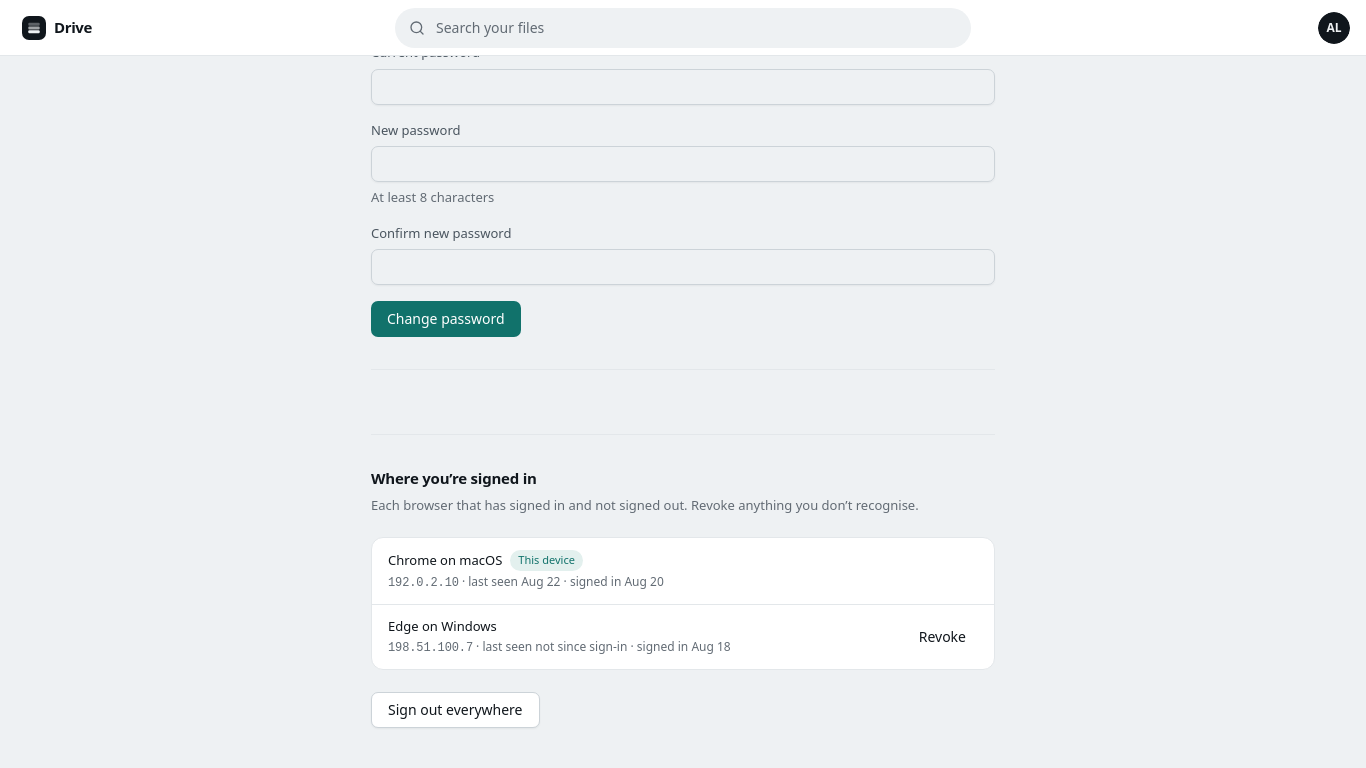
Test: the sessions section › revokes one device, keeps the rest, and never offers to revoke this one
(page scrolled)
Expected: the text "Edge on Windows" is shown, x1=388 y1=616 x2=497 y2=636
Expected: the text "Chrome on macOS" is shown, x1=388 y1=550 x2=502 y2=570
Click the button with aria-label "Revoke Edge on Windows": x=942, y=637 x1=907 y1=621 x2=978 y2=653
(page scrolled)
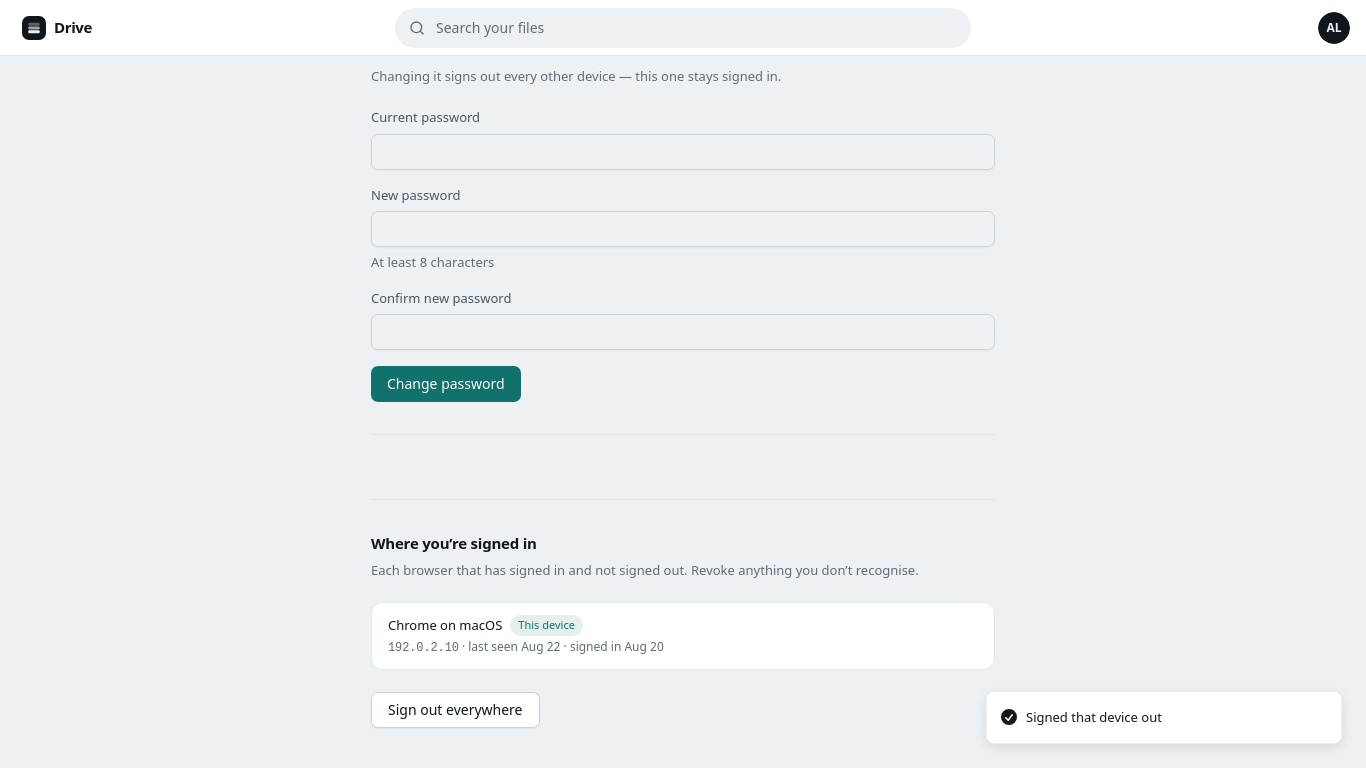
Expected: the text "Chrome on macOS" is shown, x1=388 y1=616 x2=502 y2=635
Expected: the text "Edge on Windows" is gone
